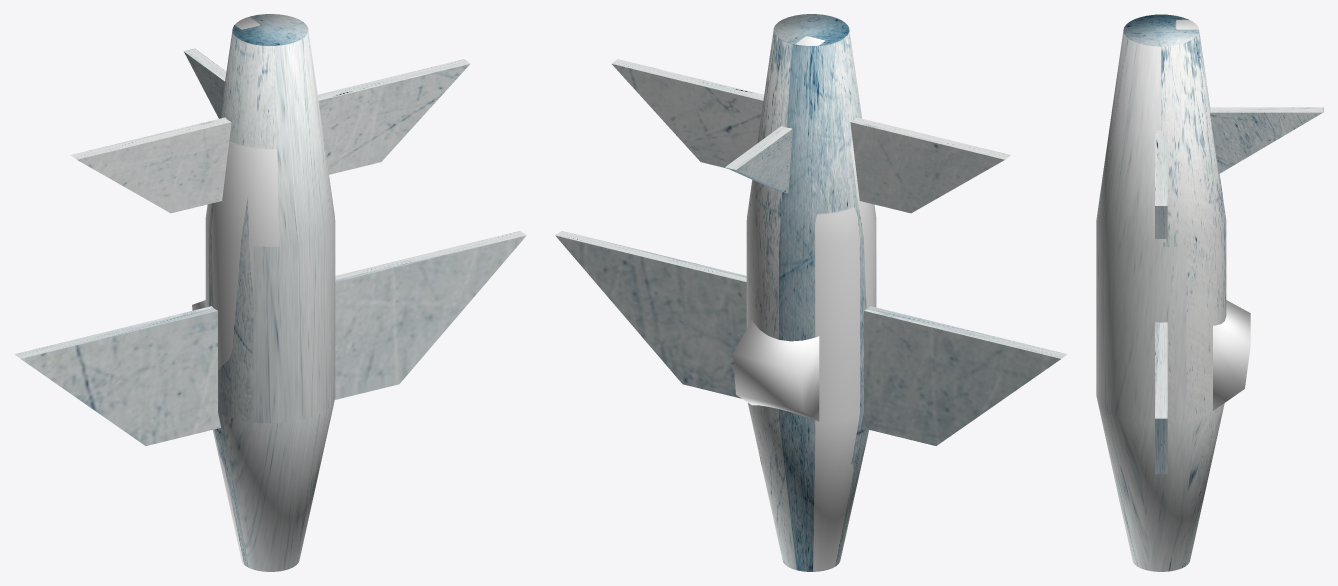
Rendered from jet_metal_obj.obj.
The picture shows the model from 3 angles, left to right: view 1: azimuth 30°, elevation 25°; view 2: azimuth 150°, elevation 25°; view 3: azimuth 270°, elevation 25°; orthographic projection.
Parts seen in each view (by area): view 1: fuselage_Cylinder, wingFront_Cube.002, wingRear_Cube.003, fin_Cube.004; view 2: fuselage_Cylinder, wingFront_Cube.002, wingRear_Cube.003, cockpit_Cube.005, fin_Cube.004; view 3: fuselage_Cylinder, fin_Cube.004, cockpit_Cube.005, wingFront_Cube.002, wingRear_Cube.003.
Boxes of the visible parts, box(x1,y1,x2,y2) form: fuselage_Cylinder: box(205, 14, 335, 571); wingFront_Cube.002: box(14, 231, 526, 445); wingRear_Cube.003: box(70, 59, 470, 213); fin_Cube.004: box(184, 48, 226, 118); fuselage_Cylinder: box(746, 14, 876, 571); wingFront_Cube.002: box(555, 231, 1067, 445); wingRear_Cube.003: box(611, 59, 1011, 213); cockpit_Cube.005: box(733, 320, 819, 421); fin_Cube.004: box(725, 126, 792, 193); fuselage_Cylinder: box(1096, 14, 1226, 571); fin_Cube.004: box(1210, 107, 1323, 173); cockpit_Cube.005: box(1213, 300, 1250, 410); wingFront_Cube.002: box(1155, 322, 1167, 473); wingRear_Cube.003: box(1155, 14, 1167, 238).
Size of the model in its own units: 9 by 9 by 3.5.
